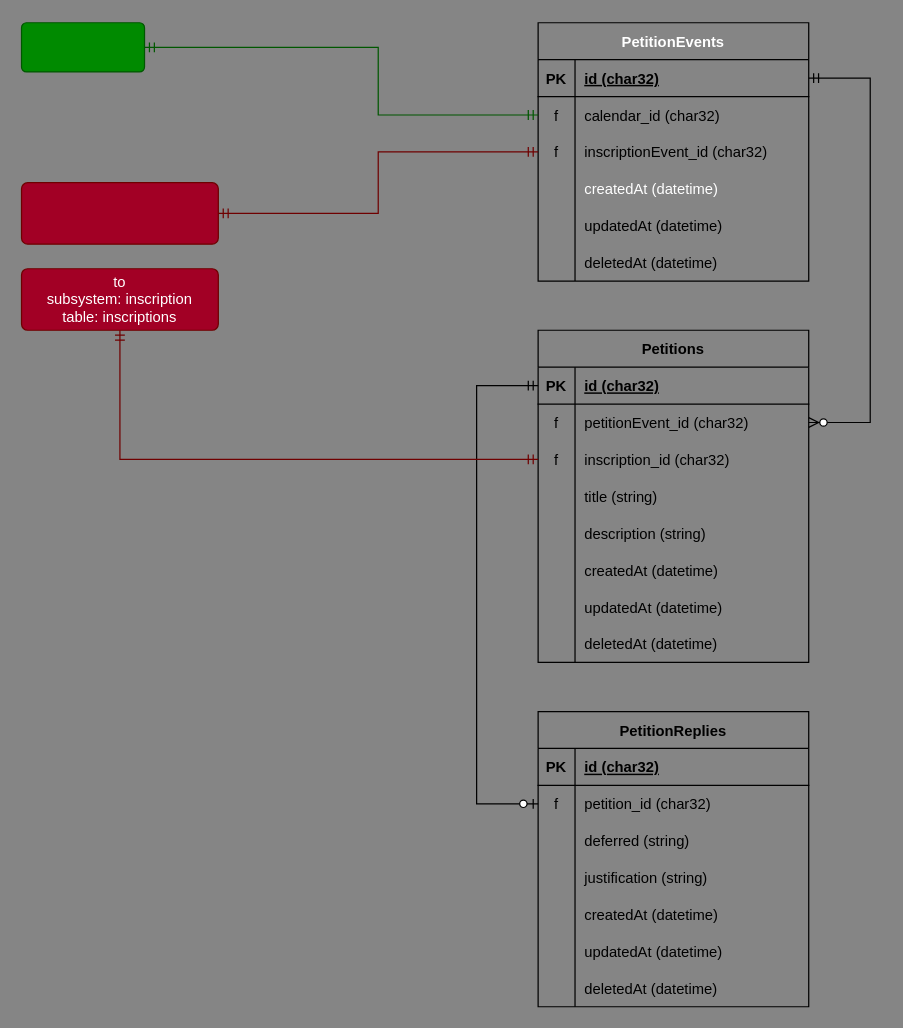
Image size: 903x1028. Some labels were removed from this diagram. Here are the shapes that lost their labels. From the top down, the box of each, then its label:
(20, 22, 145, 72): to subsystem: call table: calendar
(20, 181, 218, 244): to subsystem: inscription table: inscriptionEvents
